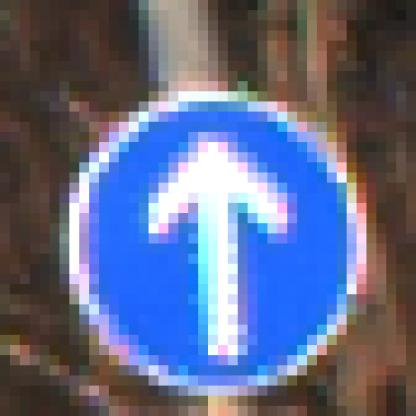AheadOnly: (61, 62, 358, 356)
